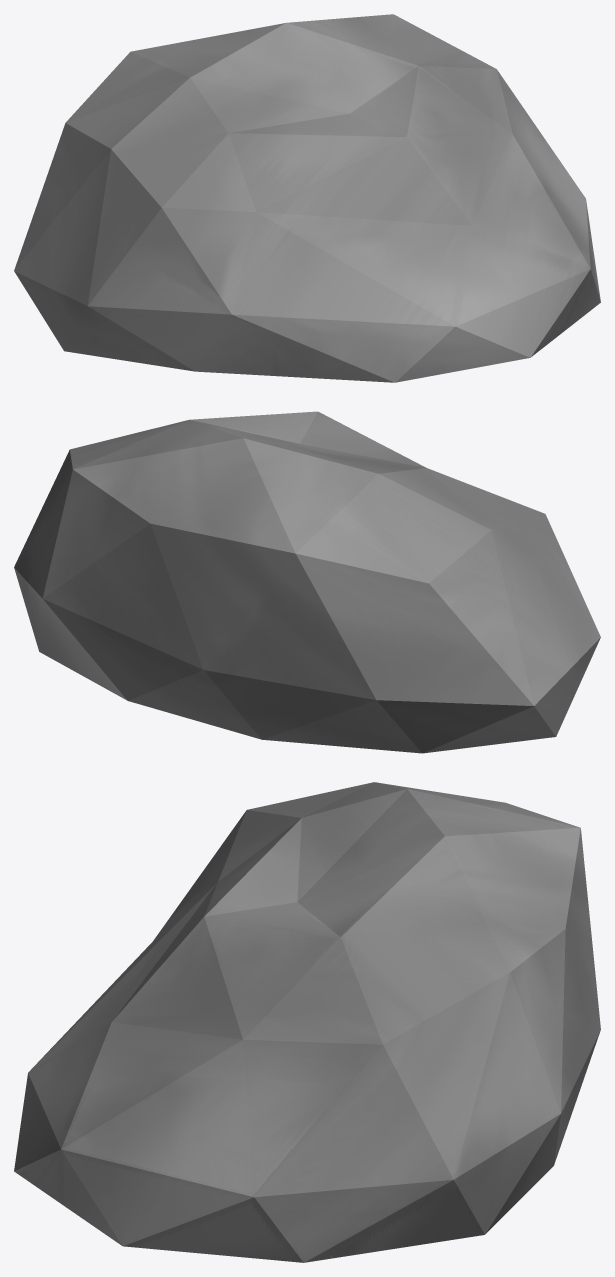
The model's file is rock3.glb.
3 renders of one model, top to bottom at view 1: azimuth 30°, elevation 25°; view 2: azimuth 150°, elevation 25°; view 3: azimuth 270°, elevation 25°, orthographic. The views are drawn at different scales.
Parts seen in each view (by area): view 1: caillou2; view 2: caillou2; view 3: caillou2.
Part boxes in pixels (left/top/right/bottom): caillou2: left=14, top=14, right=600, bottom=382; caillou2: left=14, top=411, right=600, bottom=753; caillou2: left=14, top=782, right=600, bottom=1262.
Bounding box in the file's own units: 0.6133 × 0.2844 × 0.4964.
Materials: 1 (1 with a texture image).
